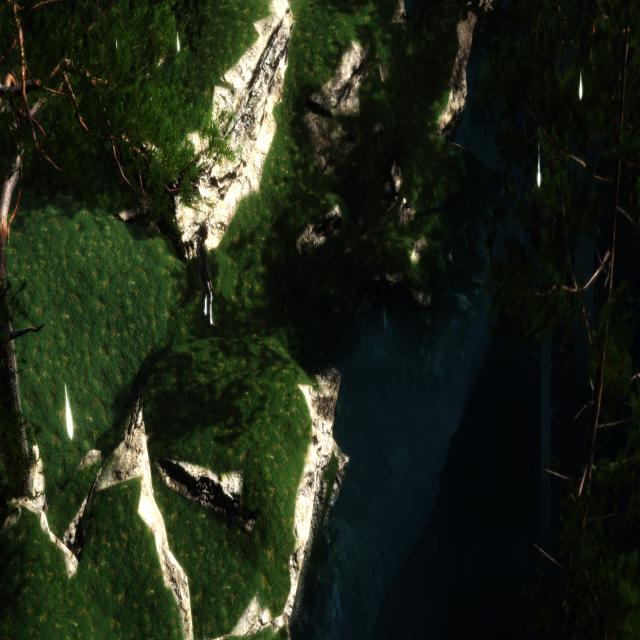Human: (195, 223, 223, 334)
